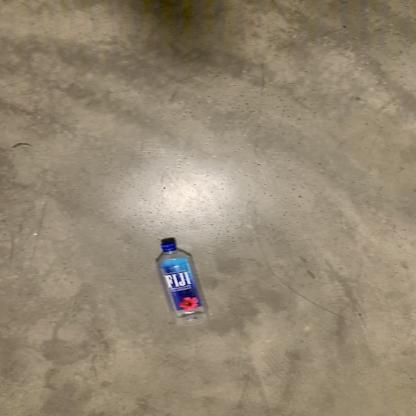trash: (156, 232, 211, 329)
